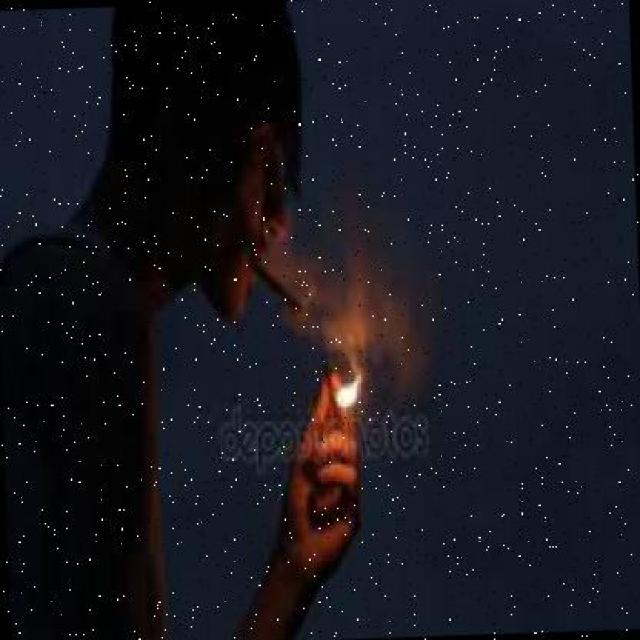fire: (326, 357, 362, 411)
